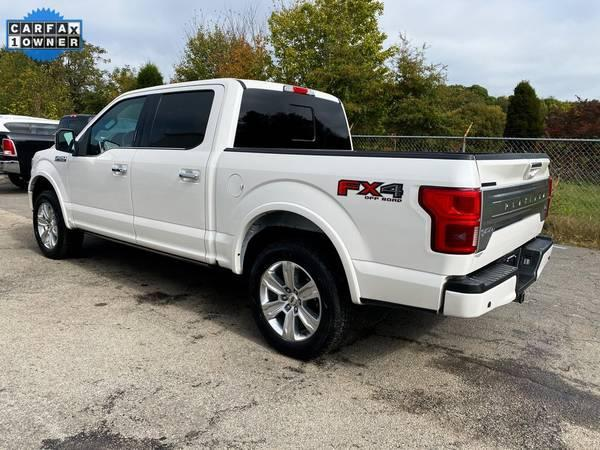Front_Fender: (28, 148, 74, 229)
Front_Left_Door: (70, 147, 136, 242)
Front_Left_Window: (69, 93, 155, 155)
Left_Taillight: (419, 185, 484, 255)
Rear_Bumper: (440, 237, 554, 317)
Rear_Fender: (212, 152, 481, 311)
Rear_Left_Door: (133, 148, 221, 263)
Rear_Left_Window: (139, 88, 214, 149)
Rear_Windshield: (220, 78, 357, 151)
Roof: (75, 79, 240, 152)
Tailgate: (473, 157, 552, 272)
Wheel: (243, 236, 350, 365), (33, 193, 83, 258)
